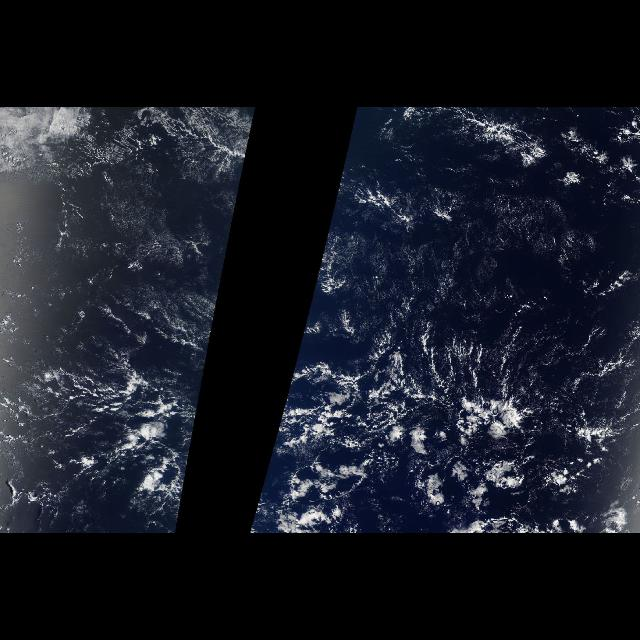Flower: (350, 342, 632, 510)
Gravel: (248, 328, 626, 530), (4, 328, 214, 530)
Sugar: (320, 162, 640, 390), (0, 108, 234, 362)
